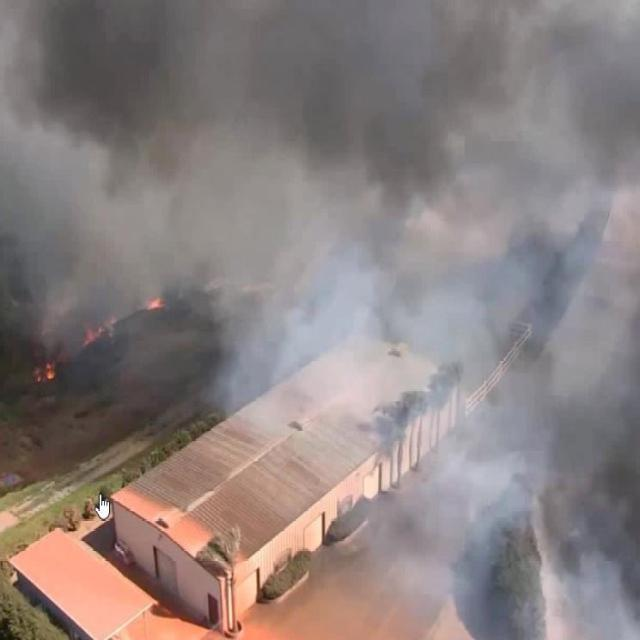Fire: (46, 337, 84, 380)
Smoke: (34, 0, 621, 627)
